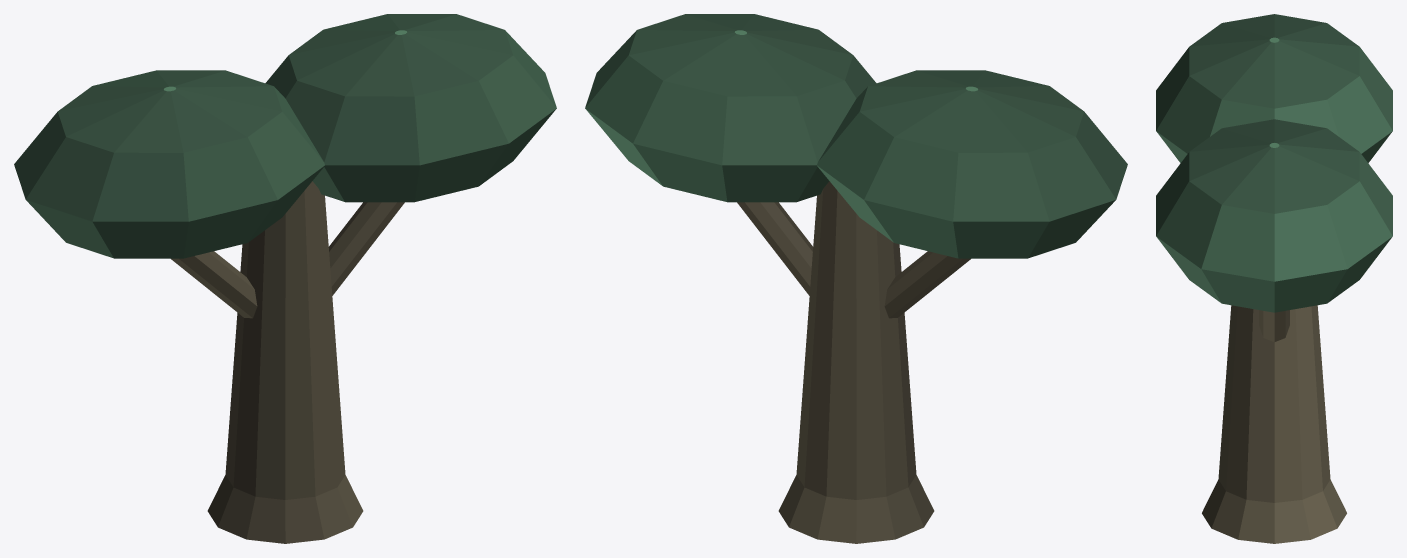
3 views of the same model, side by side, from view 1: azimuth 30°, elevation 25°; view 2: azimuth 150°, elevation 25°; view 3: azimuth 270°, elevation 25° (orthographic). The views are drawn at different scales.
Visible parts, largest first — view 1: 822187923852ec054cf22026089c52e5794a64b0f1e1c326451f4eff010b; view 2: 822187923852ec054cf22026089c52e5794a64b0f1e1c326451f4eff010b; view 3: 822187923852ec054cf22026089c52e5794a64b0f1e1c326451f4eff010b.
Part boxes in pixels (x1=…): 822187923852ec054cf22026089c52e5794a64b0f1e1c326451f4eff010b: x1=14, y1=14, x2=556, y2=543; 822187923852ec054cf22026089c52e5794a64b0f1e1c326451f4eff010b: x1=585, y1=14, x2=1127, y2=543; 822187923852ec054cf22026089c52e5794a64b0f1e1c326451f4eff010b: x1=1156, y1=14, x2=1392, y2=543.
Size of the model in its own units: 9 by 7.45 by 3.8.
2 materials, 1 textured.
